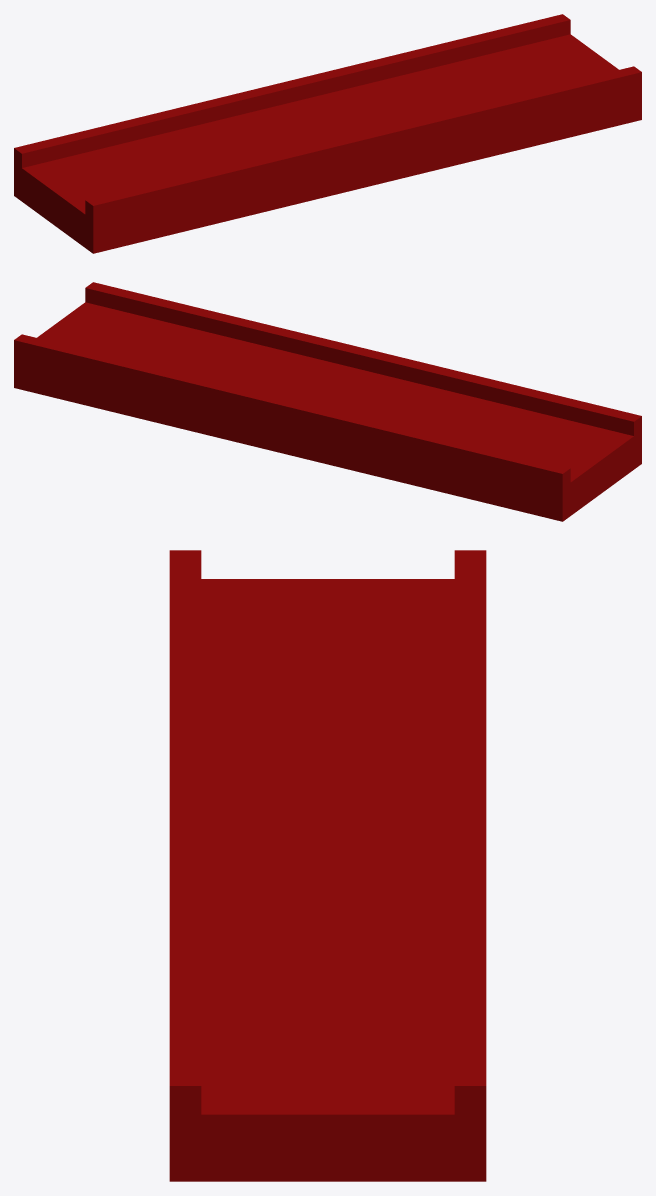
File: SM_Actuator_4x1x1s_Bottom.gltf
3 views of the same model, one above another, from view 1: azimuth 30°, elevation 25°; view 2: azimuth 150°, elevation 25°; view 3: azimuth 270°, elevation 25° (orthographic). The views are drawn at different scales.
Parts seen in each view (by area): view 1: SM_Actuator_4x1x1s_Bottom; view 2: SM_Actuator_4x1x1s_Bottom; view 3: SM_Actuator_4x1x1s_Bottom.
Boxes of the visible parts, x1,y1,x2,y2 form: SM_Actuator_4x1x1s_Bottom: [14, 14, 641, 253]; SM_Actuator_4x1x1s_Bottom: [14, 282, 641, 521]; SM_Actuator_4x1x1s_Bottom: [169, 550, 486, 1181].
Size of the model in its own units: 1.2 by 0.1 by 0.3.
